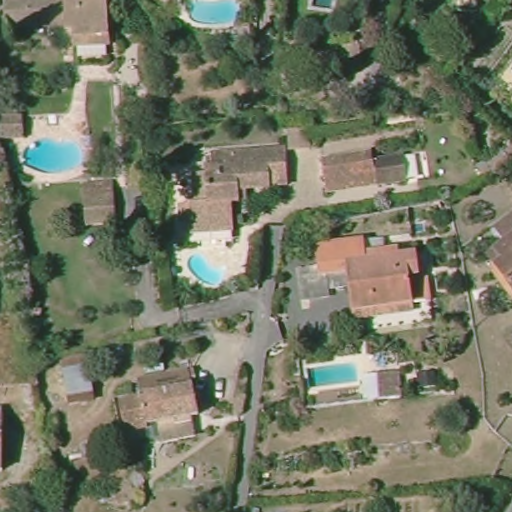pool: (16, 133, 90, 179), (183, 252, 234, 291), (297, 362, 365, 391), (181, 1, 248, 30), (297, 1, 339, 16)
